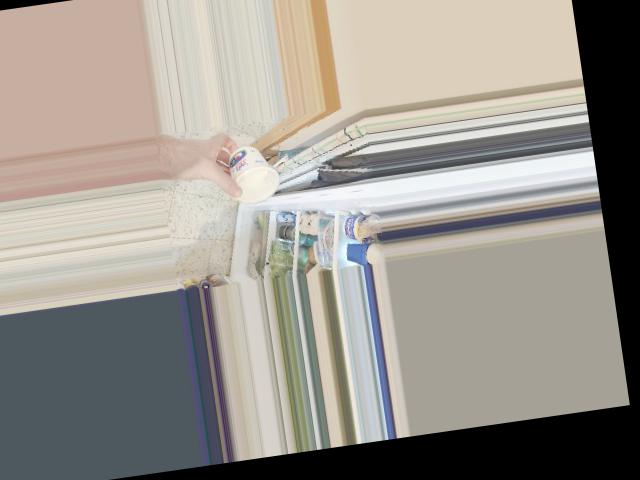cotage: (223, 142, 278, 201)
